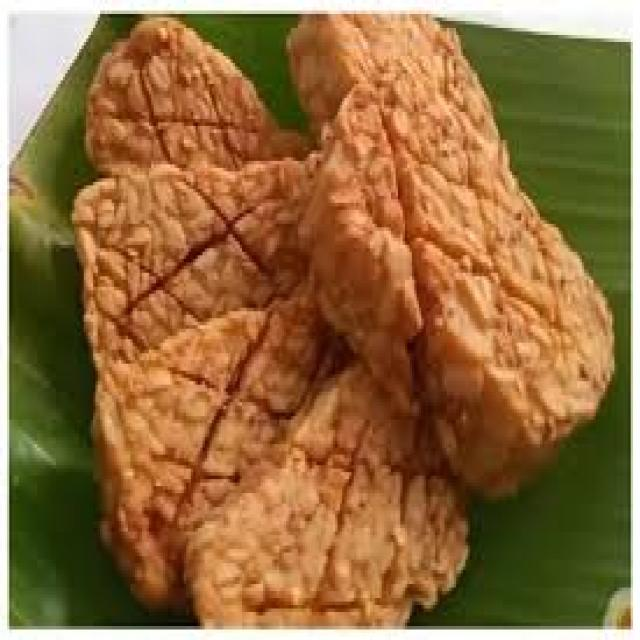tempe goreng: (291, 75, 614, 484), (68, 132, 326, 358)
